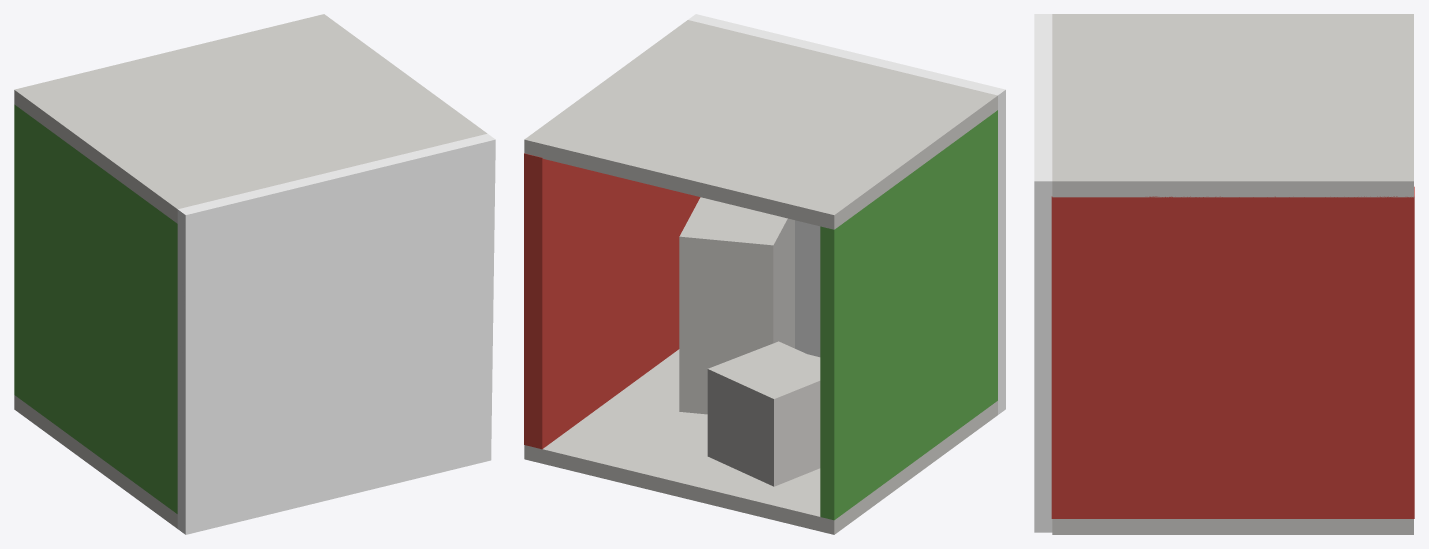
Rendered from CornellBox.glb.
3 renders of one model, left to right at view 1: azimuth 30°, elevation 25°; view 2: azimuth 150°, elevation 25°; view 3: azimuth 270°, elevation 25°, orthographic. The views are drawn at different scales.
Parts seen in each view (by area): view 1: CornellBox-Original.004, CornellBox-Original.002, CornellBox-Original.009, CornellBox-Original.001; view 2: CornellBox-Original.002, CornellBox-Original.009, CornellBox-Original.003, CornellBox-Original.001, CornellBox-Original.007, CornellBox-Original.008, CornellBox-Original.004; view 3: CornellBox-Original.003, CornellBox-Original.002, CornellBox-Original.004, CornellBox-Original.001.
Part boxes in pixels (left/top/right/bottom): CornellBox-Original.004: left=177, top=133, right=495, bottom=534; CornellBox-Original.002: left=14, top=14, right=487, bottom=223; CornellBox-Original.009: left=14, top=104, right=177, bottom=513; CornellBox-Original.001: left=14, top=395, right=177, bottom=528; CornellBox-Original.002: left=524, top=20, right=997, bottom=229; CornellBox-Original.009: left=820, top=110, right=997, bottom=520; CornellBox-Original.003: left=524, top=153, right=700, bottom=449; CornellBox-Original.001: left=524, top=349, right=997, bottom=534; CornellBox-Original.007: left=679, top=197, right=794, bottom=414; CornellBox-Original.008: left=707, top=341, right=820, bottom=486; CornellBox-Original.004: left=688, top=14, right=1005, bottom=414; CornellBox-Original.003: left=1051, top=186, right=1414, bottom=518; CornellBox-Original.002: left=1052, top=14, right=1413, bottom=197; CornellBox-Original.004: left=1034, top=14, right=1052, bottom=532; CornellBox-Original.001: left=1052, top=519, right=1413, bottom=534.
Size of the model in its own units: 6.65 by 6.55 by 6.38.
